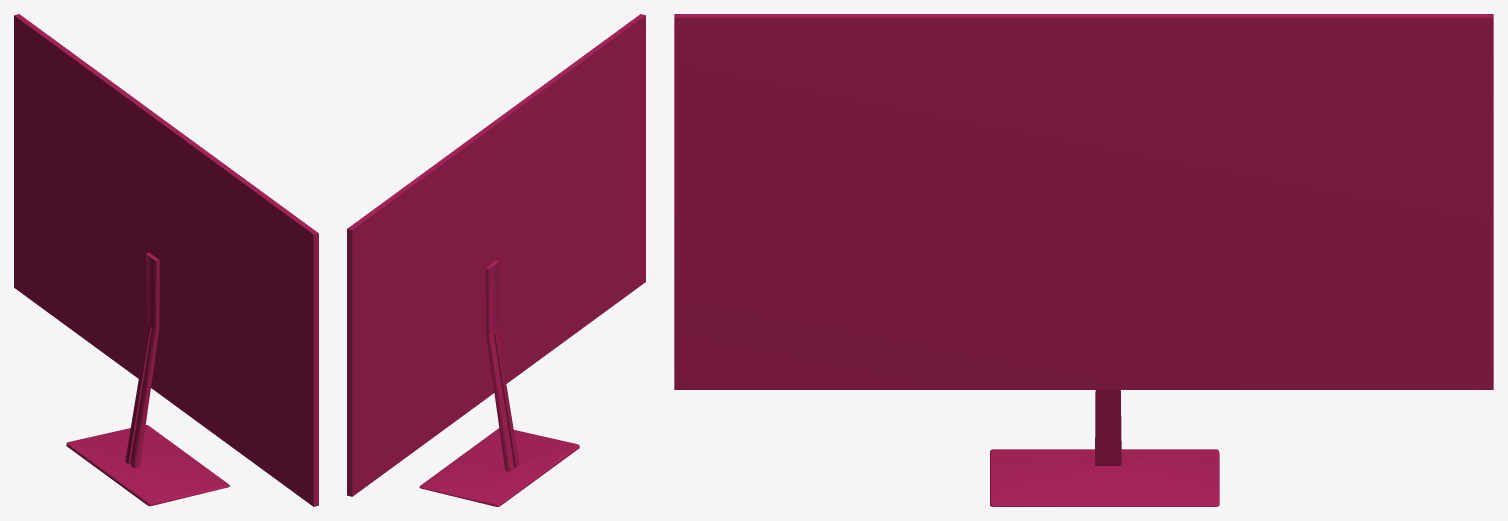
The picture shows the model from 3 angles, left to right: view 1: azimuth 30°, elevation 25°; view 2: azimuth 150°, elevation 25°; view 3: azimuth 270°, elevation 25°; orthographic projection. The views are drawn at different scales.
Visible parts, largest first — view 1: TV; view 2: TV; view 3: TV.
Boxes of the visible parts, x1,y1,x2,y2 form: TV: [14, 14, 318, 506]; TV: [347, 14, 645, 506]; TV: [674, 14, 1493, 506].
Size of the model in its own units: 8.54 by 34.35 by 54.14.
